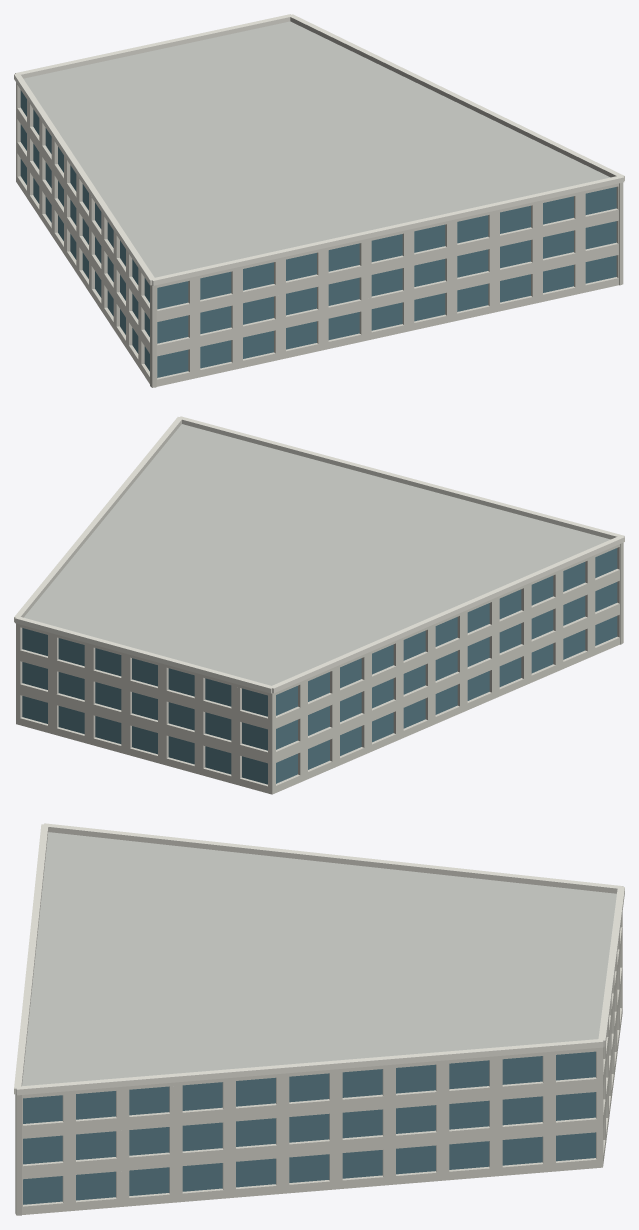
Rendered from sb_1556523898.far.glb.
3 views of the same model, one above another, from view 1: azimuth 30°, elevation 25°; view 2: azimuth 150°, elevation 25°; view 3: azimuth 270°, elevation 25° (orthographic). The views are drawn at different scales.
Visible parts, largest first — view 1: roof, wall, glass, trim; view 2: roof, wall, glass, trim; view 3: roof, wall, glass, trim.
Part boxes in pixels (x1=…): roof: x1=23, y1=21, x2=610, y2=277; wall: x1=16, y1=82, x2=623, y2=387; glass: x1=20, y1=90, x2=616, y2=377; trim: x1=14, y1=14, x2=624, y2=285; roof: x1=24, y1=424, x2=610, y2=685; wall: x1=16, y1=542, x2=623, y2=794; glass: x1=22, y1=548, x2=617, y2=784; trim: x1=14, y1=416, x2=624, y2=693; roof: x1=22, y1=832, x2=616, y2=1085; wall: x1=15, y1=913, x2=622, y2=1215; glass: x1=23, y1=1051, x2=595, y2=1204; trim: x1=14, y1=823, x2=624, y2=1095.
Bounding box in the file's own units: 43.85 × 9.74 × 42.5.
